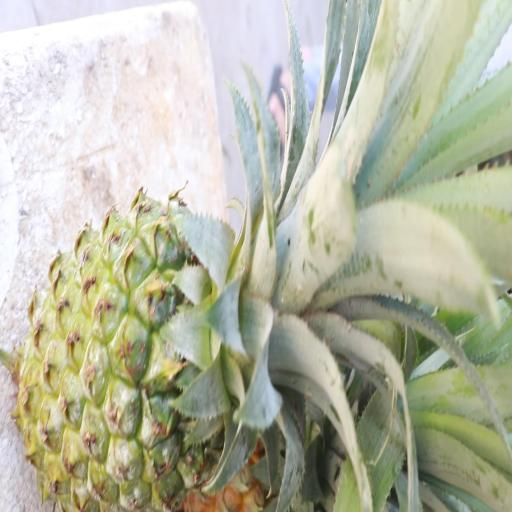------------------------------: (19, 215, 287, 506)
